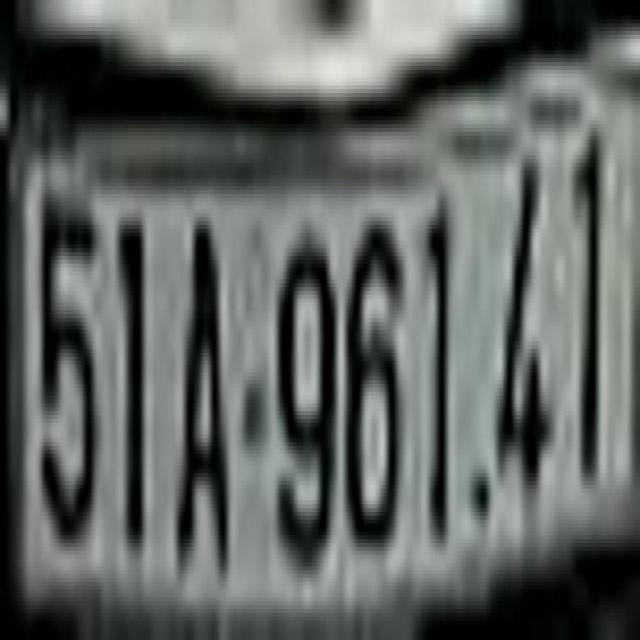1: (570, 101, 602, 473), (117, 213, 150, 551), (424, 198, 452, 527)
4: (502, 163, 552, 500)
5: (40, 194, 94, 520)
6: (346, 213, 397, 539)
9: (275, 217, 334, 570)
A: (177, 198, 230, 590)
